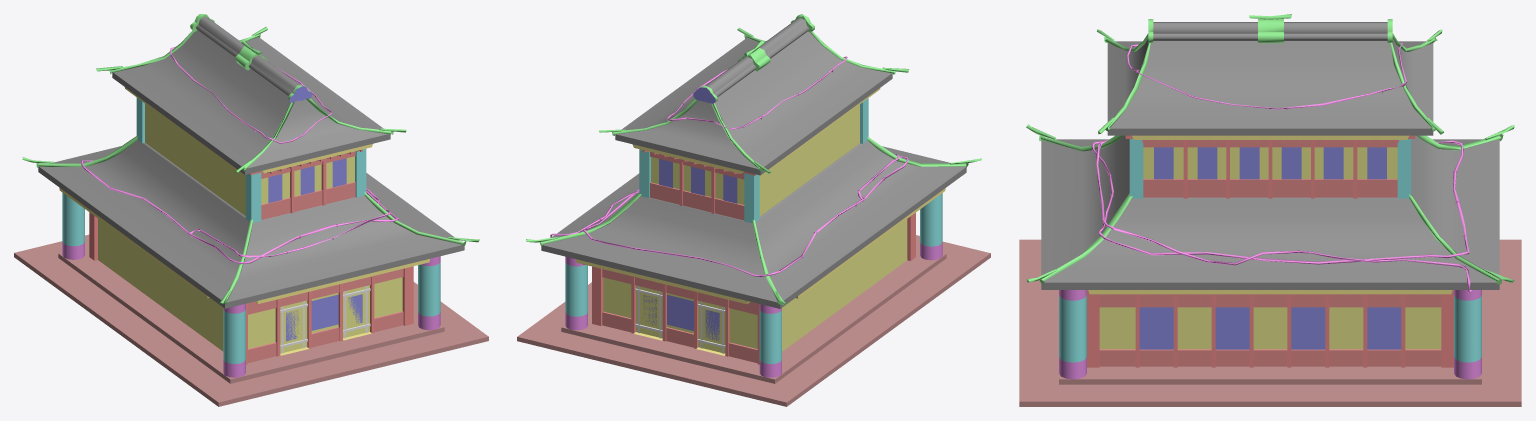
File: SM_ENV_LKNVLD_Building_A_Lod3.gltf
3 views of the same model, side by side, from view 1: azimuth 30°, elevation 25°; view 2: azimuth 150°, elevation 25°; view 3: azimuth 270°, elevation 25° (orthographic). The views are drawn at different scales.
Visible parts, largest first — view 1: SM_ENV_LKNVLD_Building_A_Lod3; view 2: SM_ENV_LKNVLD_Building_A_Lod3; view 3: SM_ENV_LKNVLD_Building_A_Lod3.
Part boxes in pixels (x1=…): SM_ENV_LKNVLD_Building_A_Lod3: x1=14, y1=14, x2=488, y2=406; SM_ENV_LKNVLD_Building_A_Lod3: x1=517, y1=14, x2=990, y2=406; SM_ENV_LKNVLD_Building_A_Lod3: x1=1019, y1=14, x2=1521, y2=406.
Bounding box in the file's own units: 19.3 × 17.3 × 25.3.
